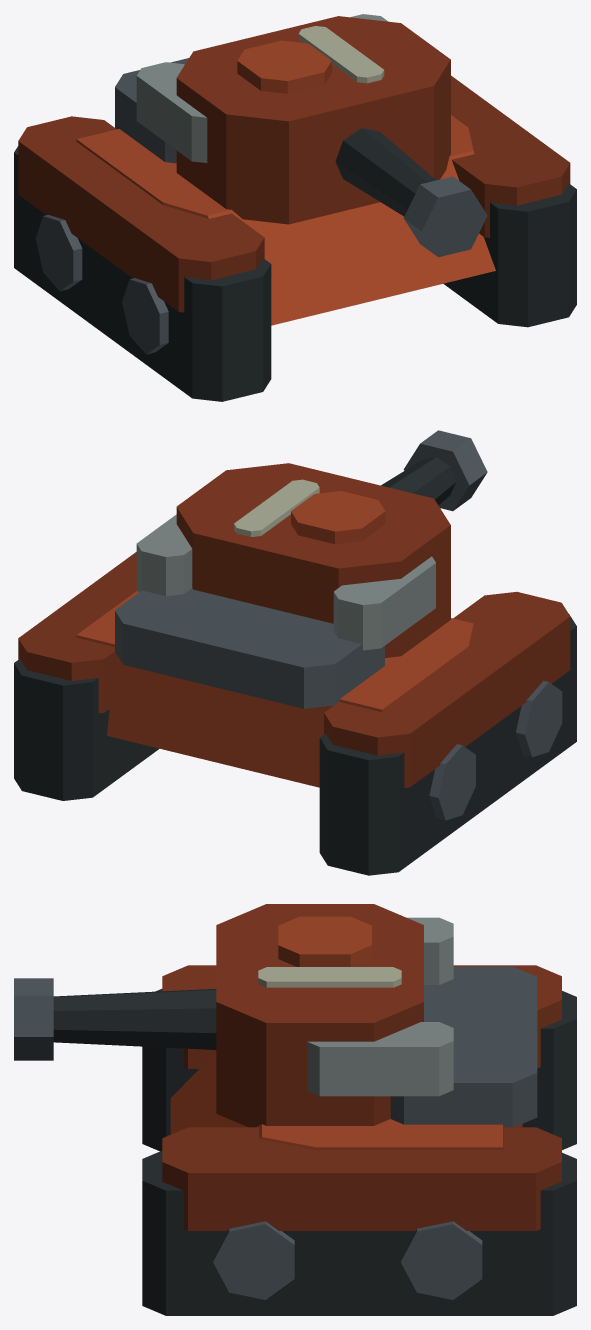
Rendered from enemy_heavy_tank.glb.
3 views of the same model, one above another, from view 1: azimuth 30°, elevation 25°; view 2: azimuth 150°, elevation 25°; view 3: azimuth 270°, elevation 25° (orthographic). The views are drawn at different scales.
Visible parts, largest first — view 1: enemy_heavy_tank; view 2: enemy_heavy_tank; view 3: enemy_heavy_tank.
Boxes of the visible parts, <box> form: enemy_heavy_tank: <box>14,14,576,401</box>; enemy_heavy_tank: <box>14,430,576,875</box>; enemy_heavy_tank: <box>14,904,576,1315</box>.
Bounding box in the file's own units: 1.02 × 0.591 × 1.14.
